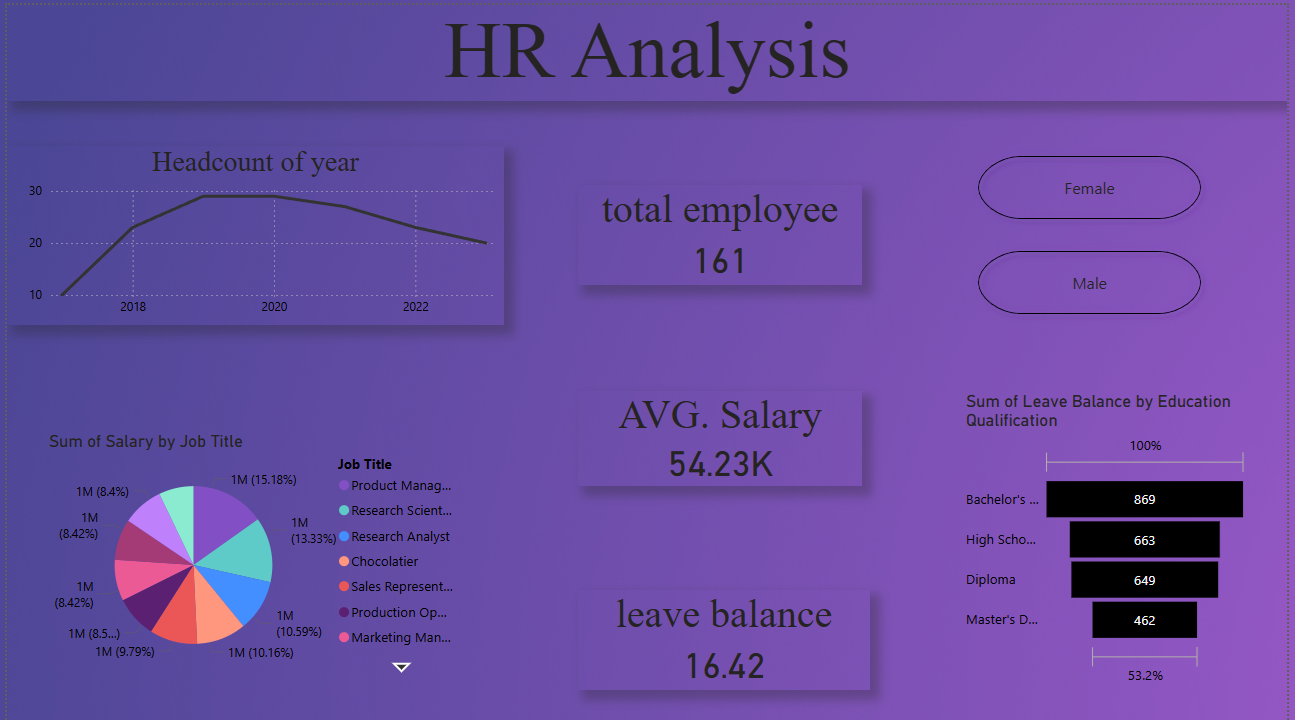

This screenshot's page, from the dashboard's own definition file:
{"tool":"powerbi","page":{"name":"Page 1","canvas":[1280,720],"ordinal":0},"visuals":[{"type":"card","title":"total employee ","fields":{"Values":["CountNonNull(data.Emp ID)"]},"box":[570.9,179.9,284,100.2],"z":0},{"type":"textbox","title":"HR Analysis","box":[0,0,1280,96.3],"z":1000},{"type":"card","title":"leave balance","fields":{"Values":["Avg(data.Leave Balance)"]},"box":[570.9,584.6,291.8,100.2],"z":2000},{"type":"card","title":"AVG. Salary","fields":{"Values":["Avg(data.Salary)"]},"box":[570.9,386.1,284,95.3],"z":3000},{"type":"lineChart","title":"Headcount of  year","fields":{"Category":["data.Date of Join.Variation.Date Hierarchy.Year"],"Y":["CountNonNull(data.Date of Join)"]},"box":[0,141,497,179],"z":4000},{"type":"pieChart","fields":{"Y":["Sum(data.Salary)"],"Category":["data.Job Title"]},"box":[37,426,424.1,249],"z":5000},{"type":"advancedSlicerVisual","fields":{"Values":["data.Gender"]},"box":[954.2,134.2,256.8,191.6],"z":6000},{"type":"funnel","fields":{"Category":["data.Education Qualification"],"Y":["Sum(data.Leave Balance)"]},"box":[954.2,386.1,291.8,298.6],"z":7000}]}

Visuals, with their boxes in screenshot pixels (x1, y1, x2, y2), scaled from the page's 1280x720 canvas onto the 1295x720 screenshot:
"total employee " card: crop(578, 180, 865, 280)
"HR Analysis" textbox: crop(0, 0, 1294, 96)
"leave balance" card: crop(578, 585, 873, 685)
"AVG. Salary" card: crop(578, 386, 865, 481)
"Headcount of  year" lineChart: crop(0, 141, 503, 320)
pieChart - Sum(data.Salary) x data.Job Title: crop(37, 426, 467, 675)
advancedSlicerVisual - data.Gender: crop(965, 134, 1225, 326)
funnel - data.Education Qualification x Sum(data.Leave Balance): crop(965, 386, 1261, 685)
